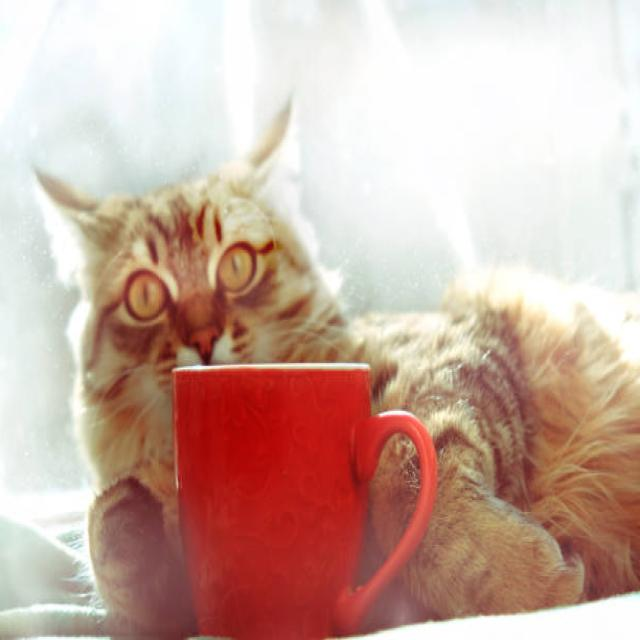Red_cup: (173, 364, 436, 638)
